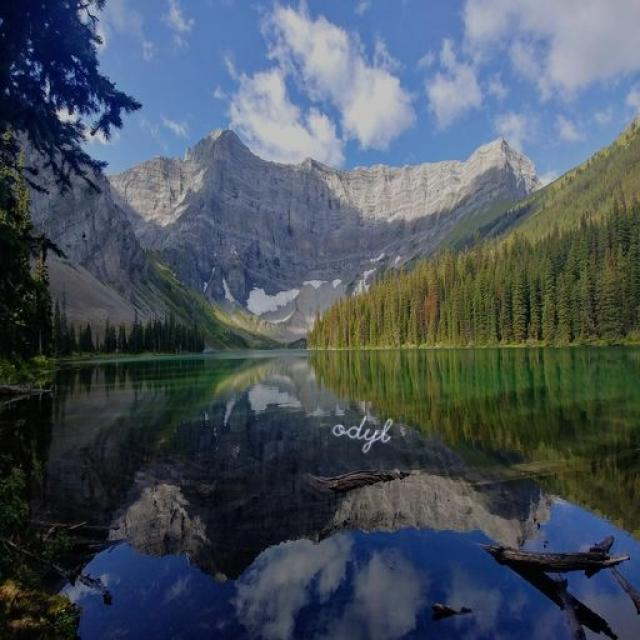watermark: (324, 409, 413, 448)
